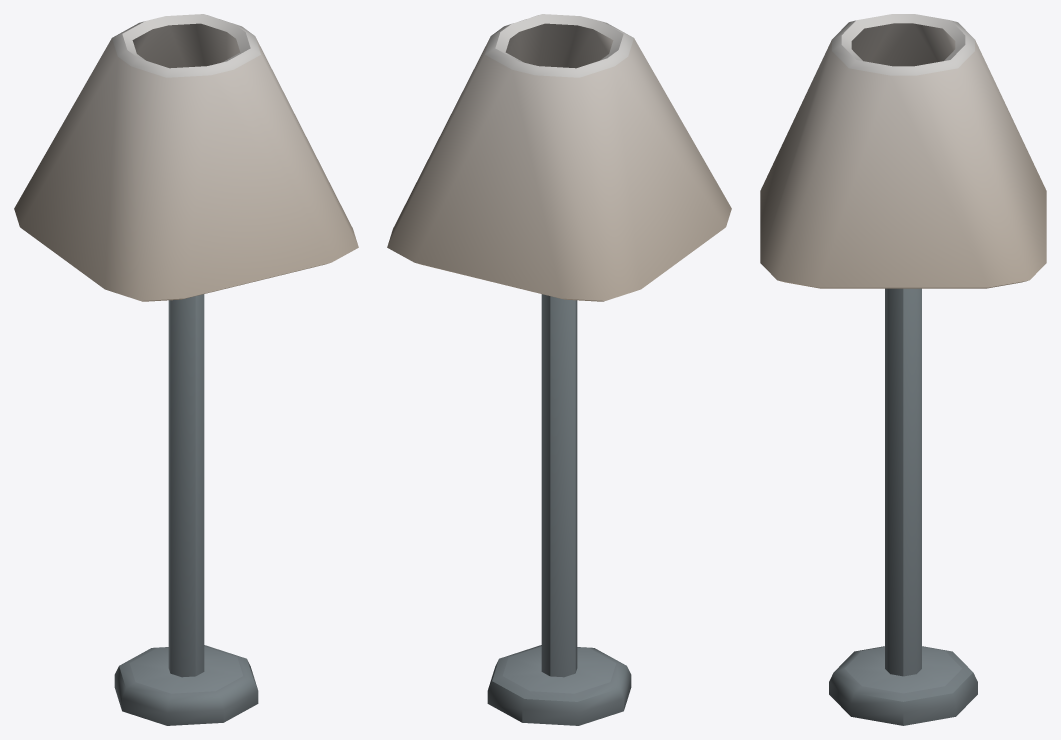
File: lamp-standing.glb
3 views of the same model, side by side, from view 1: azimuth 30°, elevation 25°; view 2: azimuth 150°, elevation 25°; view 3: azimuth 270°, elevation 25° (orthographic).
Parts seen in each view (by area): view 1: lamp_standing; view 2: lamp_standing; view 3: lamp_standing.
Part boxes in pixels (x1,y1,x2,y2): lamp_standing: (14,14,358,725); lamp_standing: (387,14,731,725); lamp_standing: (760,14,1046,725).
Size of the model in its own units: 1 by 2.52 by 1.
